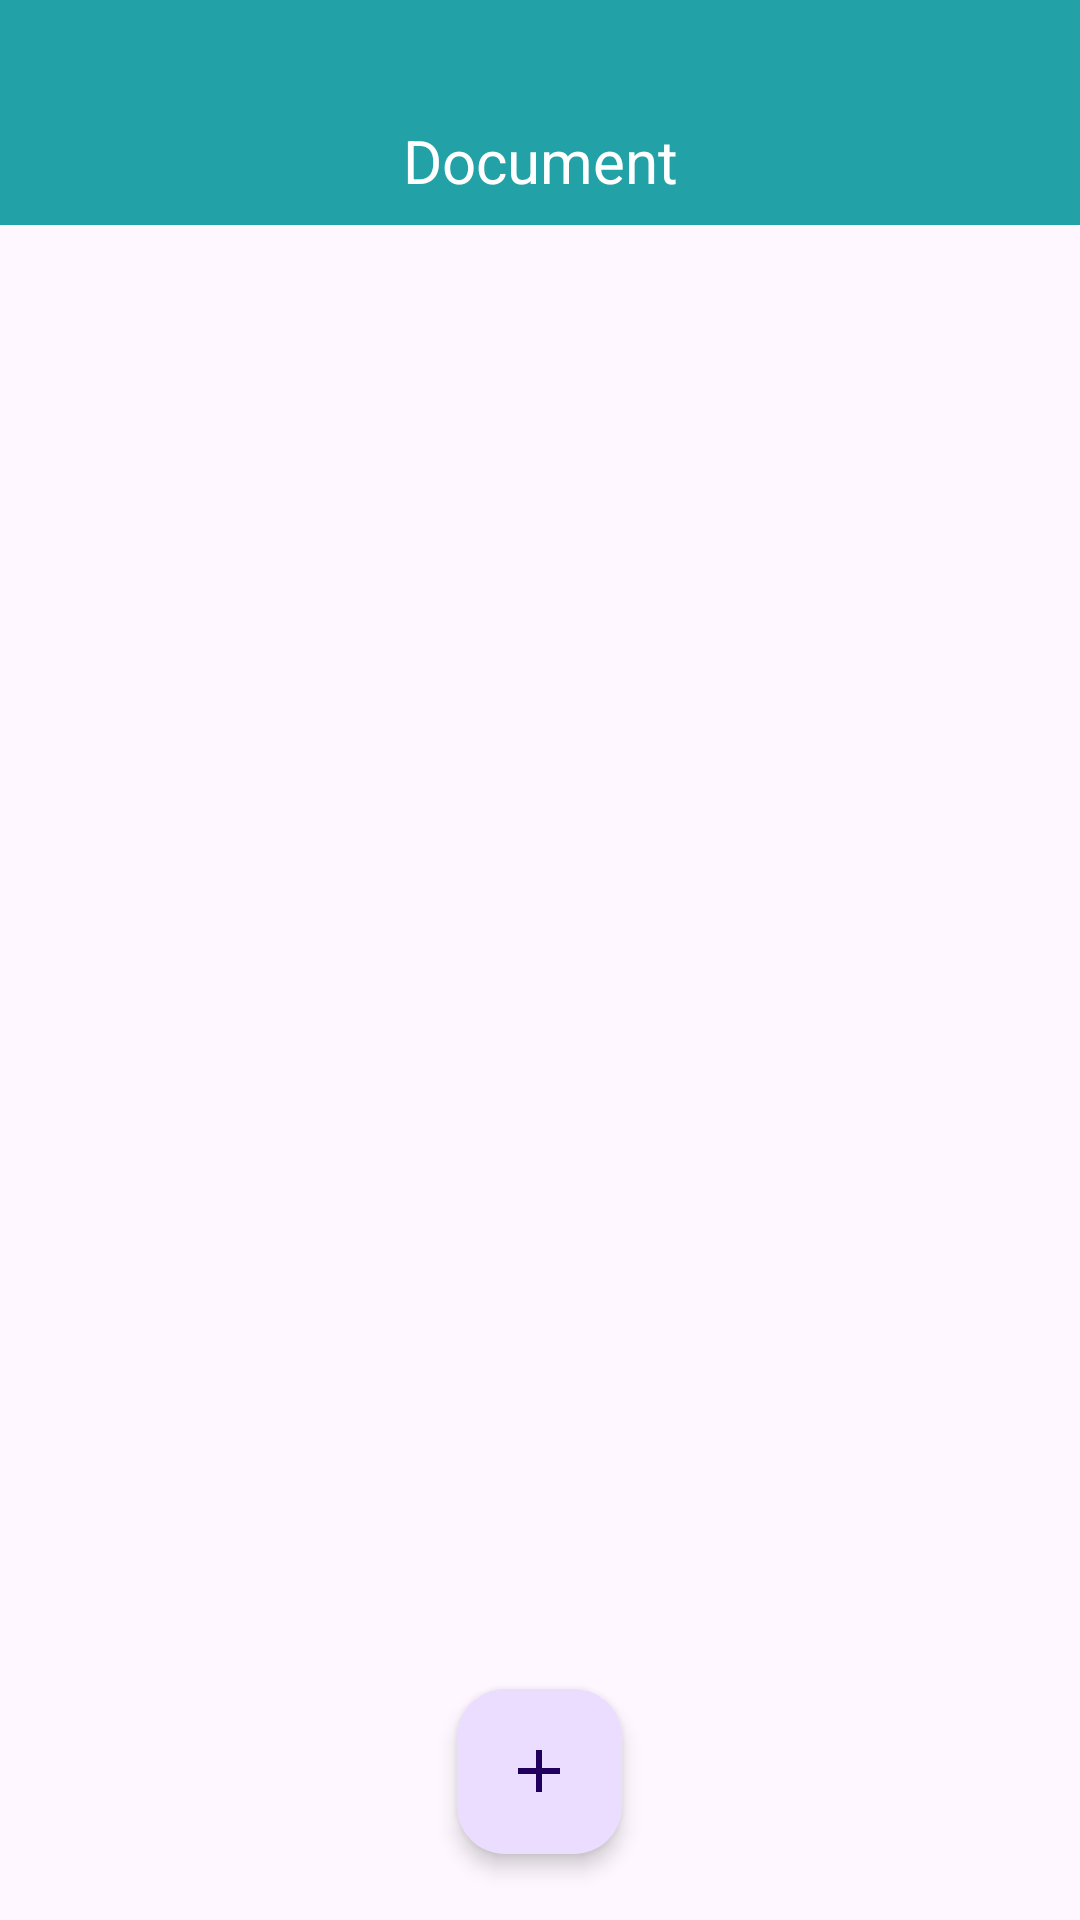

Named icons in this screenshot (1080×1920) and their bounding boxes, (x1, y1, x2, y2):
add: (457, 1689, 622, 1854)
